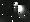person: (20, 7, 30, 19), (13, 4, 19, 12)
